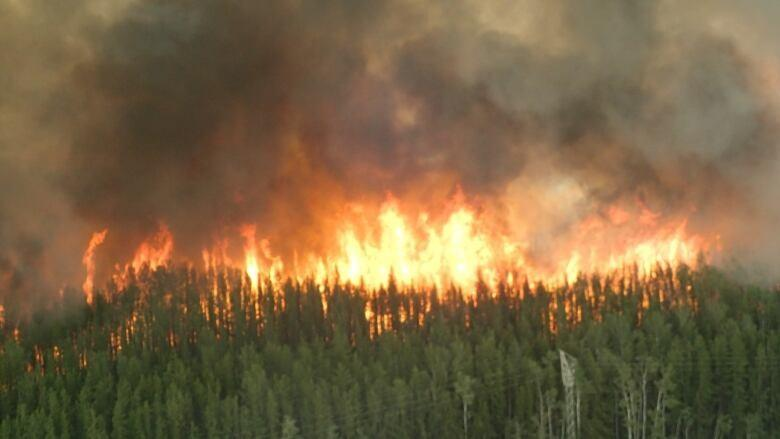fire: (350, 222, 473, 277), (608, 240, 697, 270), (243, 248, 290, 291)
smoke: (440, 43, 730, 167), (134, 34, 299, 161)
